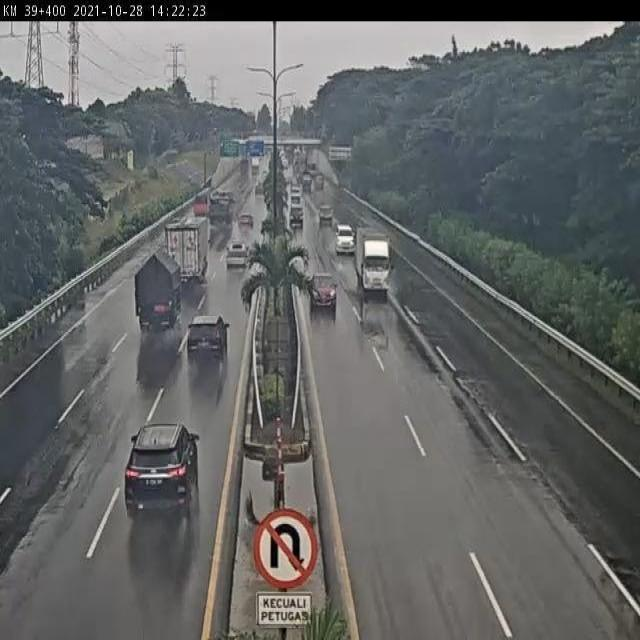Car: (123, 420, 200, 520), (187, 317, 231, 367), (310, 273, 338, 312), (336, 224, 357, 253), (317, 204, 334, 227), (238, 211, 255, 230)
Truck: (134, 254, 185, 326), (163, 214, 213, 285), (355, 226, 396, 299), (208, 186, 236, 230), (224, 239, 252, 269)
